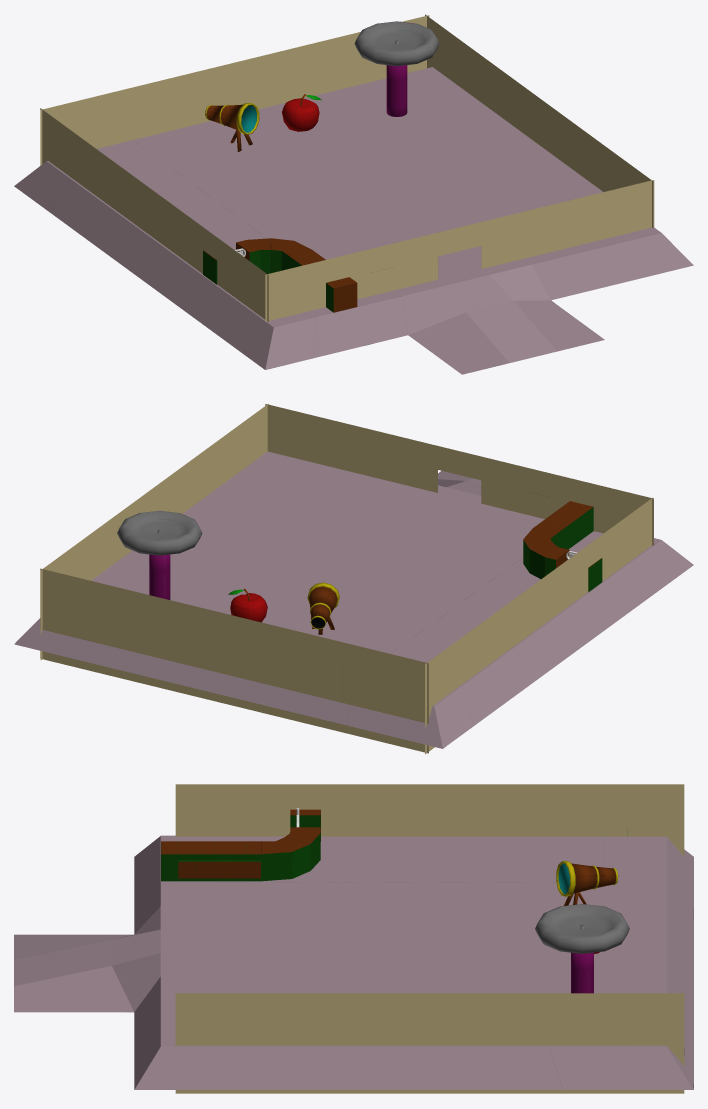
File: stanza_staccionata.fbx
The picture shows the model from 3 angles, top to bottom: view 1: azimuth 30°, elevation 25°; view 2: azimuth 150°, elevation 25°; view 3: azimuth 270°, elevation 25°; orthographic projection. The views are drawn at different scales.
Parts seen in each view (by area): view 1: pavimento, pareti, tesla, bancone, cannocchiale, mela; view 2: pavimento, pareti, tesla, bancone, cannocchiale, mela; view 3: pavimento, pareti, bancone, tesla, cannocchiale.
Part boxes in pixels (x1=…): pavimento: x1=14, y1=67, x2=693, y2=374; pareti: x1=40, y1=14, x2=654, y2=321; tesla: x1=354, y1=21, x2=439, y2=116; bancone: x1=203, y1=238, x2=357, y2=312; cannocchiale: x1=205, y1=103, x2=259, y2=151; mela: x1=281, y1=94, x2=321, y2=131; pavimento: x1=14, y1=451, x2=693, y2=748; pareti: x1=40, y1=404, x2=653, y2=754; tesla: x1=117, y1=510, x2=202, y2=599; bancone: x1=523, y1=501, x2=602, y2=592; cannocchiale: x1=307, y1=582, x2=339, y2=634; mela: x1=228, y1=588, x2=267, y2=622; pavimento: x1=14, y1=835, x2=693, y2=1089; pareti: x1=175, y1=784, x2=684, y2=1093; bancone: x1=161, y1=809, x2=320, y2=881; tesla: x1=535, y1=904, x2=629, y2=993; cannocchiale: x1=556, y1=861, x2=618, y2=905.
Size of the model in its own units: 2489 by 664 by 3070.
